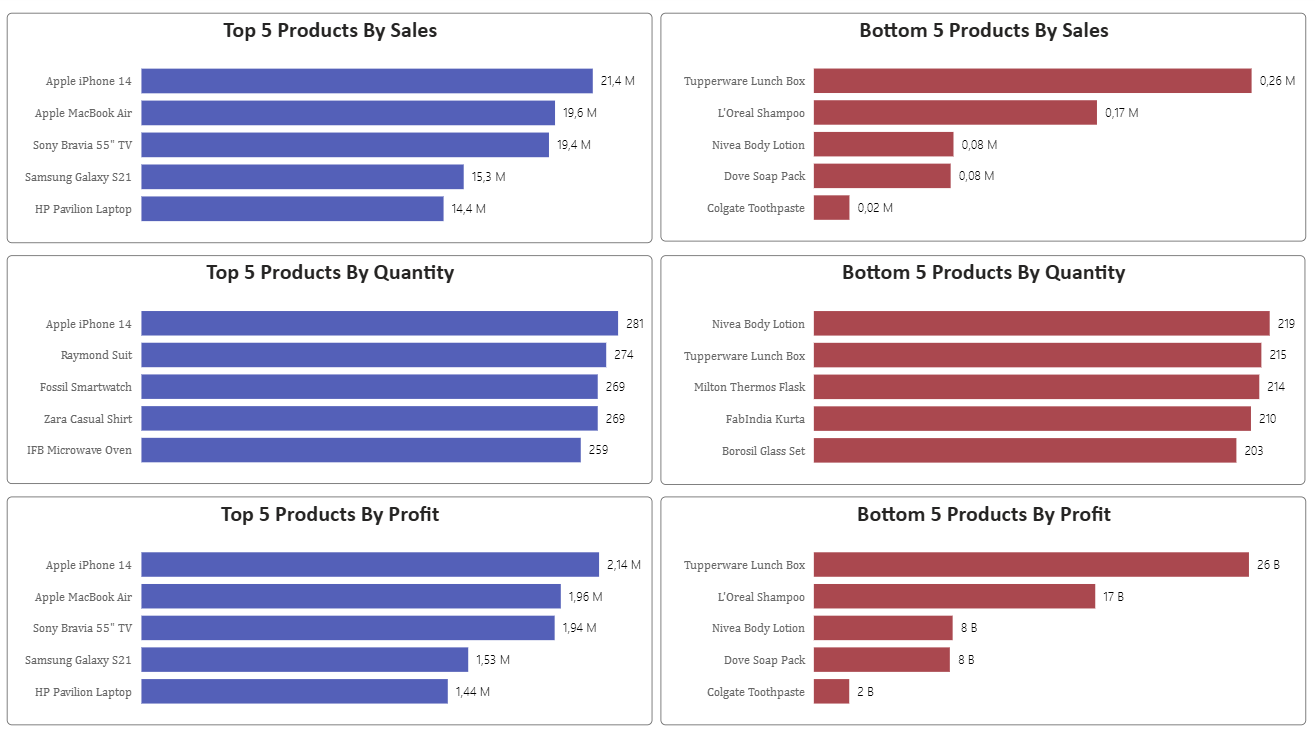

Layout of this report page (visuals, bound fields, positions):
{"tool":"powerbi","page":{"name":"Top & Bottom 5 Products by Sales/Profit/Quantity","canvas":[1280,720],"ordinal":1},"visuals":[{"type":"barChart","title":"Top 5 Products By Sales","fields":{"Category":["Dim Product.Product Name"],"Y":["Sum(Fact Table.Net Sales)"]},"box":[8.2,17.8,623,222.3],"z":0},{"type":"barChart","title":"Bottom 5 Products By Sales","fields":{"Category":["Dim Product.Product Name"],"Y":["Sum(Fact Table.Net Sales)"]},"box":[639.5,17.8,623,220.9],"z":1000},{"type":"barChart","title":"Top 5 Products By Quantity","fields":{"Category":["Dim Product.Product Name"],"Y":["Sum(Fact Table.Units Sold)"]},"box":[8.2,252.5,623,220.9],"z":2000},{"type":"barChart","title":"Bottom 5 Products By Quantity","fields":{"Category":["Dim Product.Product Name"],"Y":["Sum(Fact Table.Units Sold)"]},"box":[640,252.5,622.5,221.2],"z":3000},{"type":"barChart","title":"Top 5 Products By Profit","fields":{"Category":["Dim Product.Product Name"],"Y":["Sum(Fact Table.Profit)"]},"box":[8.2,484.4,623,220.9],"z":4000},{"type":"barChart","title":"Bottom 5 Products By Profit","fields":{"Category":["Dim Product.Product Name"],"Y":["Sum(Fact Table.Profit)"]},"box":[639.5,484.4,623,220.9],"z":5000}]}

Visuals, with their boxes in screenshot pixels (x1, y1, x2, y2), scaled from the page's 1280x720 canvas onto the 1315x733 screenshot:
"Top 5 Products By Sales" barChart: (left=8, top=18, right=648, bottom=244)
"Bottom 5 Products By Sales" barChart: (left=657, top=18, right=1297, bottom=243)
"Top 5 Products By Quantity" barChart: (left=8, top=257, right=648, bottom=482)
"Bottom 5 Products By Quantity" barChart: (left=658, top=257, right=1297, bottom=482)
"Top 5 Products By Profit" barChart: (left=8, top=493, right=648, bottom=718)
"Bottom 5 Products By Profit" barChart: (left=657, top=493, right=1297, bottom=718)
